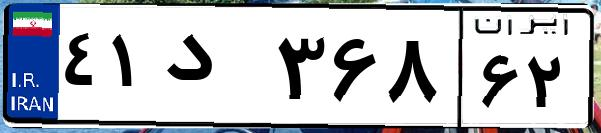1: (110, 28, 158, 98)
2: (525, 38, 570, 115)
3: (270, 28, 330, 110)
4: (57, 26, 110, 100)
6: (330, 28, 385, 110), (475, 38, 525, 113)
8: (385, 28, 445, 110)
د: (158, 20, 270, 120)
